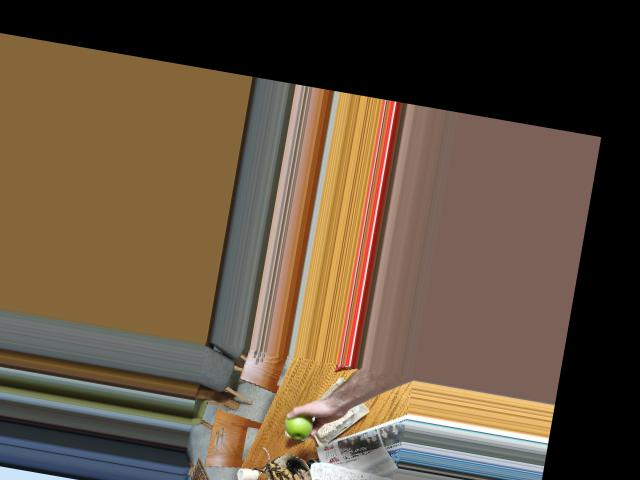apple: (279, 405, 318, 442)
